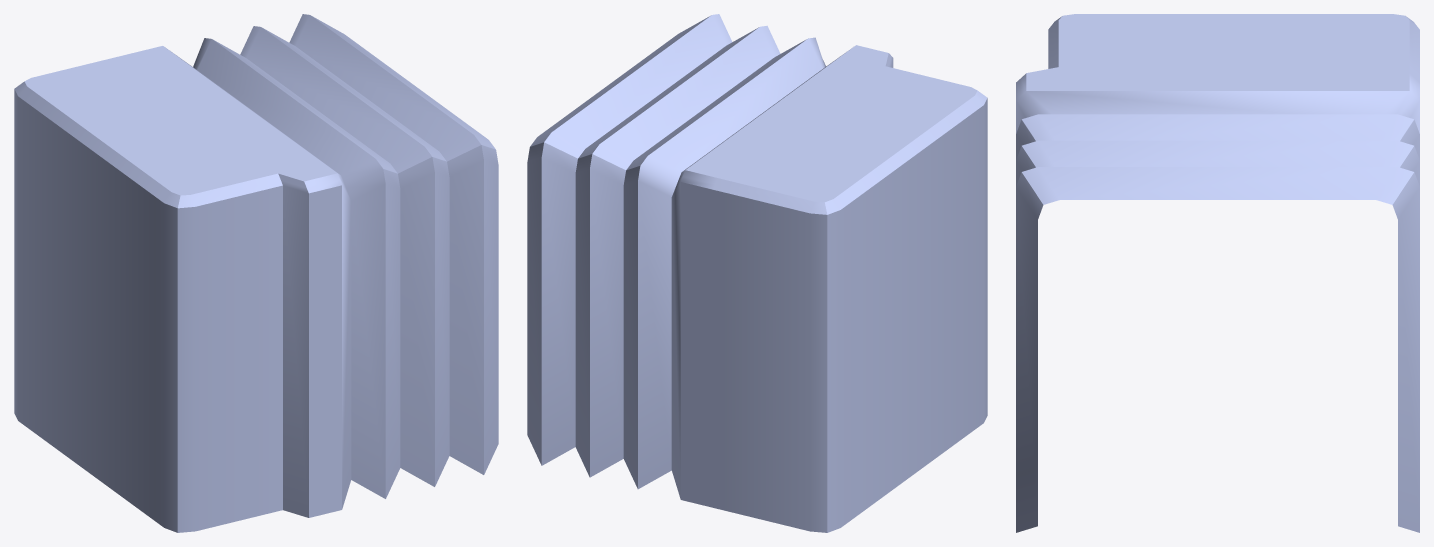
File: accordion.glb
3 renders of one model, left to right at view 1: azimuth 30°, elevation 25°; view 2: azimuth 150°, elevation 25°; view 3: azimuth 270°, elevation 25°, orthographic. The views are drawn at different scales.
Visible parts, largest first — view 1: accordion; view 2: accordion; view 3: accordion.
Boxes of the visible parts, left/top/right/bottom form: accordion: left=14, top=14, right=498, bottom=532; accordion: left=527, top=14, right=987, bottom=532; accordion: left=1016, top=14, right=1419, bottom=532.
Bounding box in the file's own units: 0.8996 × 0.9 × 0.9.
